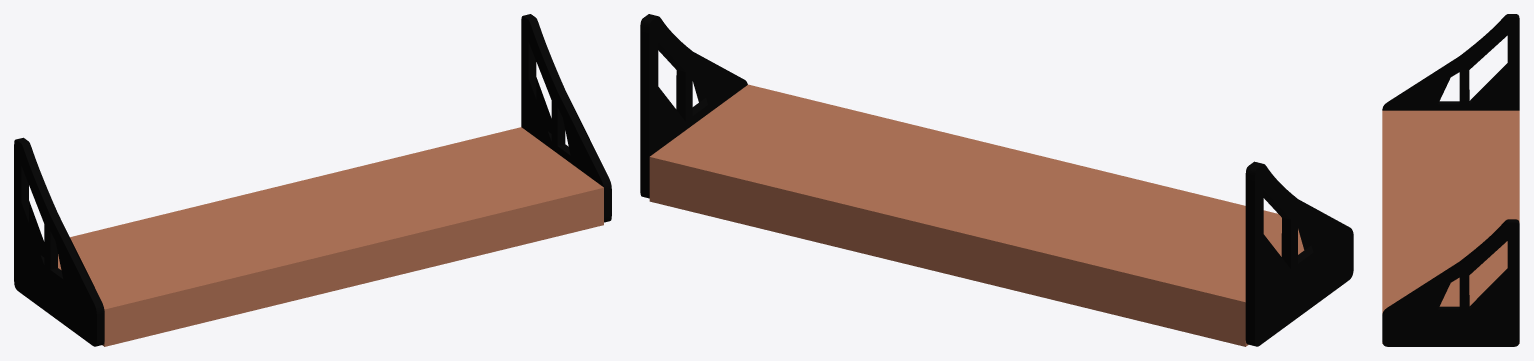
The model's file is polka_update.fbx.
3 renders of one model, left to right at view 1: azimuth 30°, elevation 25°; view 2: azimuth 150°, elevation 25°; view 3: azimuth 270°, elevation 25°, orthographic. The views are drawn at different scales.
Visible parts, largest first — view 1: NurbsCircle; view 2: NurbsCircle; view 3: NurbsCircle.
Boxes of the visible parts, <box> form: NurbsCircle: <box>14,14,611,346</box>; NurbsCircle: <box>640,14,1353,346</box>; NurbsCircle: <box>1382,14,1519,346</box>.
Size of the model in its own units: 718 by 200 by 200.
